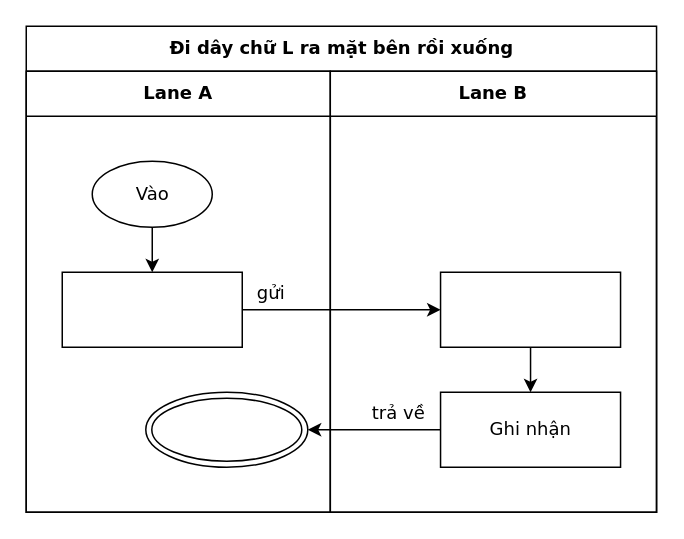
This 684x539 diagram has some shape labels left out. The shapes that lost their labels are listed below. From the top down, each one's centre as x and y in pixels, then its label:
At point 151,309: "Chuẩn bị".
At point 530,309: "Nhận".
At point 226,429: "Kết thúc".
